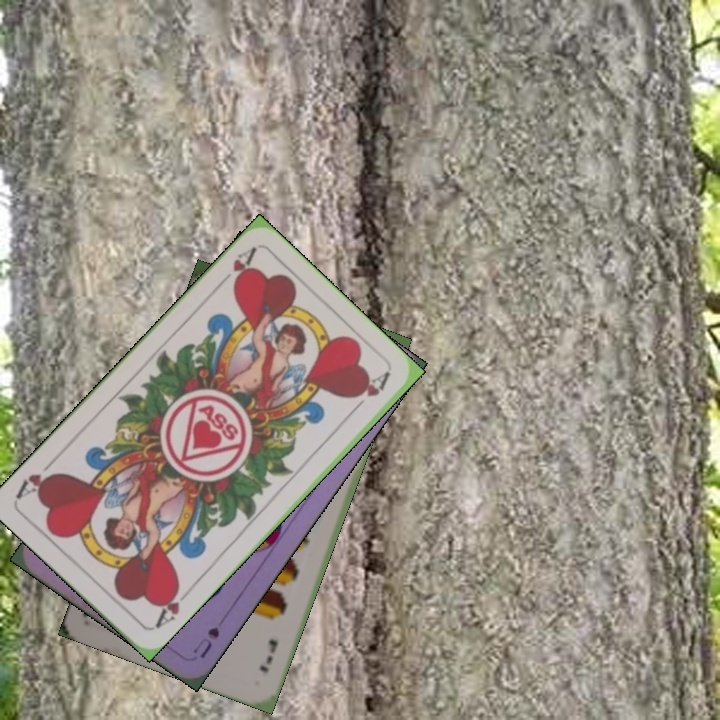E7: (255, 635, 281, 675)
HA: (150, 581, 195, 632), (212, 243, 259, 291)
SU: (189, 623, 223, 662)
